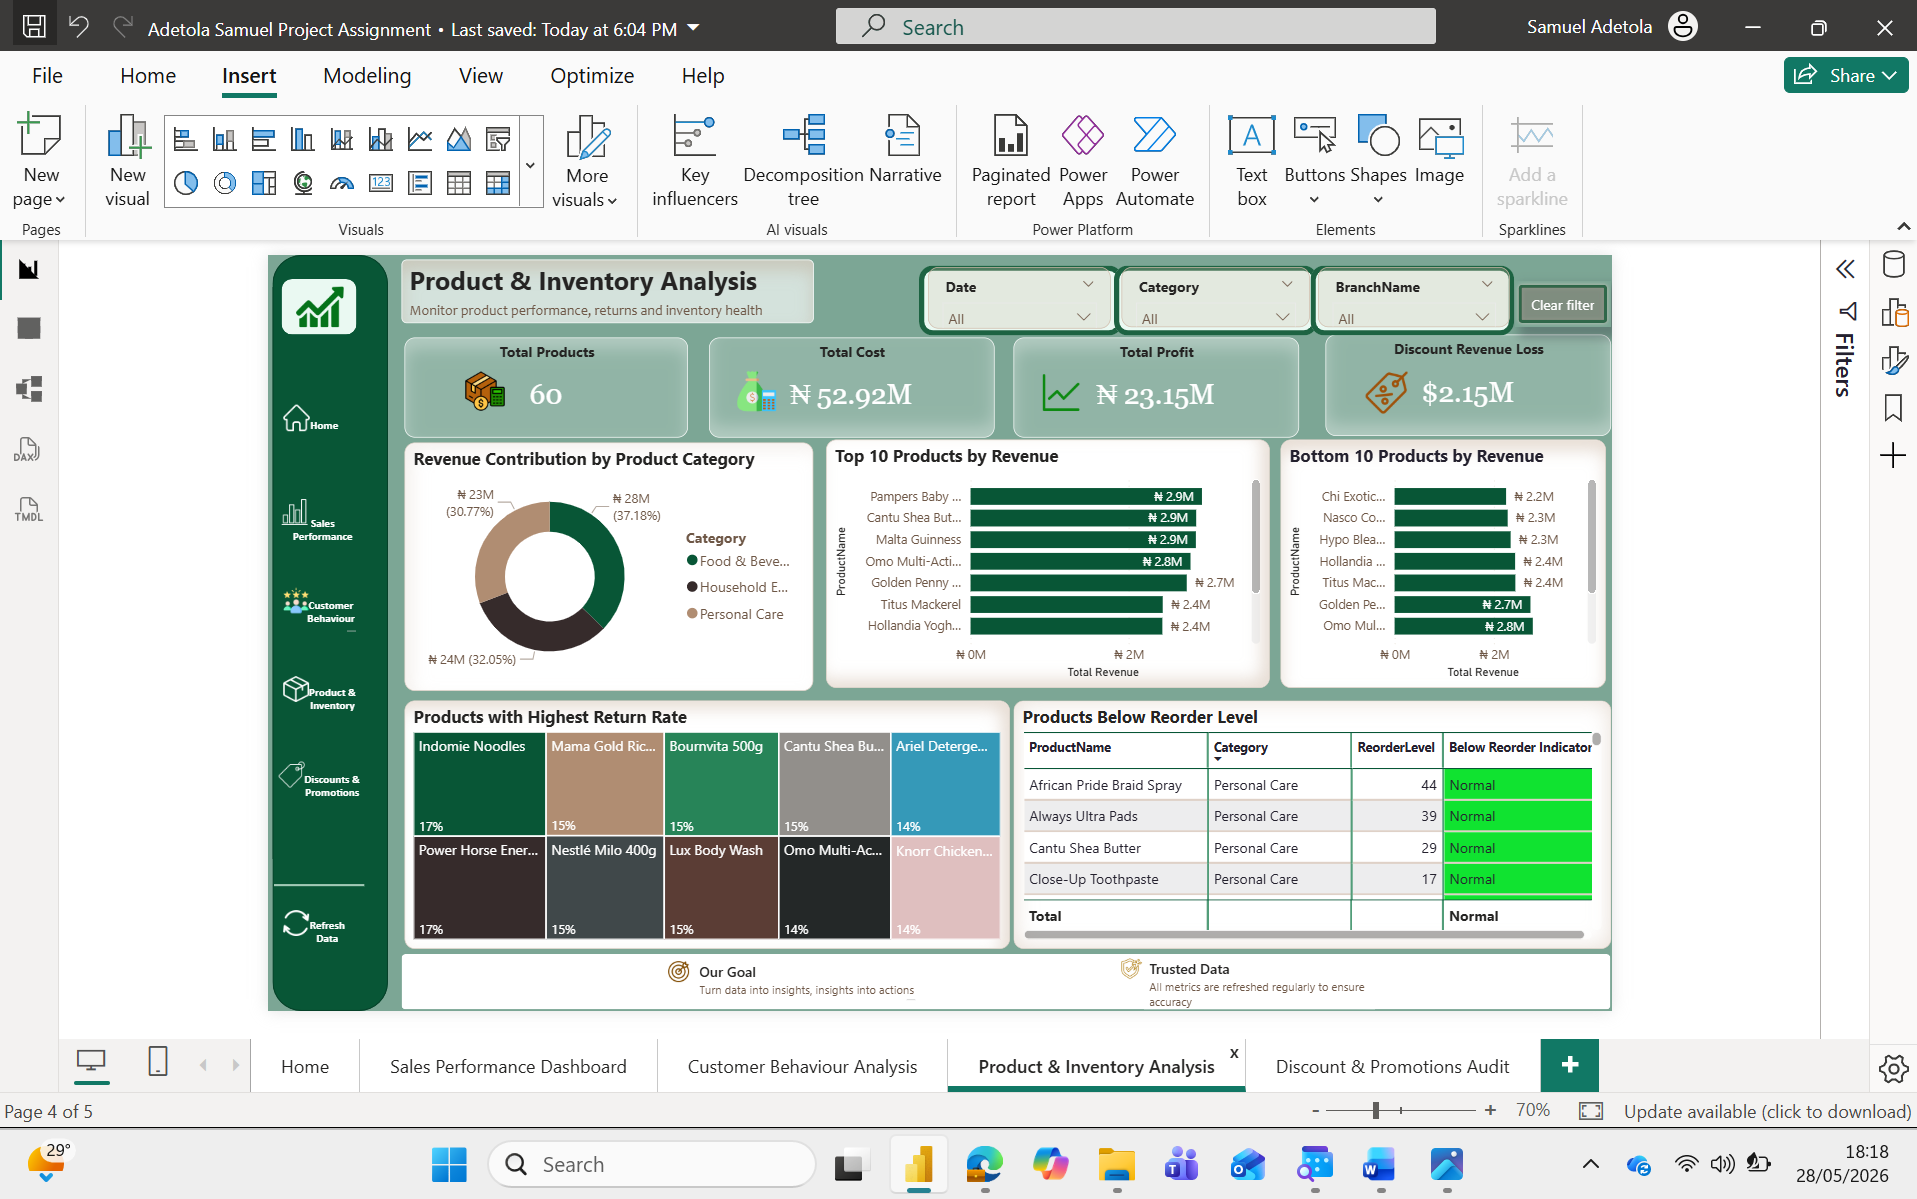

Layout of this report page (visuals, bound fields, positions):
{"tool":"powerbi","page":{"name":"Product & Inventory Analysis","canvas":[1280,720],"ordinal":3},"visuals":[{"type":"shape","box":[619.9,9.5,193.9,66.8],"z":0},{"type":"shape","box":[805.8,9.5,193.9,66.8],"z":1000},{"type":"card","title":"Total Products","fields":{"Values":["Measures (4).Total Products"]},"box":[130.3,77.9,270.2,95.4],"z":2000},{"type":"card","title":"Total Cost","fields":{"Values":["Measures (4).Total Cost"]},"box":[419.6,77.9,271.8,95.4],"z":3000},{"type":"card","title":"Total Profit","fields":{"Values":["Measures (4).Total Profit"]},"box":[710.5,77.9,271.8,95.4],"z":4000},{"type":"card","title":"Discount Revenue Loss","fields":{"Values":["Measures (4).Discount Revenue Loss"]},"box":[1007.7,76.3,271.8,97],"z":5000},{"type":"donutChart","title":"Revenue Contribution by Product Category","fields":{"Category":["products.Category"],"Y":["Measures (4).Total Revenue"]},"box":[130.3,178,389.4,236.8],"z":6000},{"type":"clusteredBarChart","title":"Top 10 Products by Revenue","fields":{"Category":["products.ProductName"],"Y":["Measures (4).Total Revenue"]},"box":[530.9,176.4,422.8,236.8],"z":7000},{"type":"tableEx","title":"Products Below Reorder Level","fields":{"Values":["products.ProductName","products.Category","products.ReorderLevel","Measures (4).Below Reorder Indicator"]},"box":[710.5,424.4,569,236.8],"z":8000},{"type":"treemap","title":"Products with Highest Return Rate","fields":{"Group":["products.ProductName"],"Values":["Measures (4).Return Rate %"]},"box":[130.3,424.4,577,236.8],"z":9000},{"type":"textbox","title":"Product & Inventory Analysis","box":[127.2,4.8,392.6,60.4],"z":10000},{"type":"clusteredBarChart","title":"Bottom 10 Products by Revenue","fields":{"Category":["products.ProductName"],"Y":["Measures (4).Total Revenue"]},"box":[964.8,176.4,309.9,236.8],"z":11000},{"type":"shape","box":[4.3,0,110,720],"z":12000},{"type":"image","box":[6.6,136.4,39.7,35.8],"z":13000},{"type":"image","title":"Sales Performance","box":[5.3,226.5,39.7,35],"z":14000},{"type":"image","box":[6.6,311.3,39,35],"z":15000},{"type":"image","box":[6.6,396.1,39,35],"z":16000},{"type":"image","box":[2.6,476.9,39.7,35],"z":17000},{"type":"image","box":[6.6,618.6,39,35],"z":18000},{"type":"shape","box":[5.3,574.9,86.1,51.7],"z":19000},{"type":"slicer","fields":{"Values":["sales_transactions.Date"]},"box":[628.6,11.4,174.3,58.6],"z":20000},{"type":"slicer","fields":{"Values":["products.Category"]},"box":[812.2,11.1,179.6,57.2],"z":21000},{"type":"shape","box":[993.4,9.5,193.9,66.8],"z":22000},{"type":"slicer","fields":{"Values":["branches.BranchName"]},"box":[999.7,11.1,182.8,57.2],"z":23000},{"type":"actionButton","box":[1187.3,23.8,92.2,44.5],"z":24000},{"type":"textbox","title":"Home","box":[3.2,155.8,101.7,20.7],"z":25000},{"type":"textbox","title":"Sales                                        Performance","box":[15.9,247.9,73.1,25.4],"z":26000},{"type":"textbox","title":"Customer Behaviour","box":[31.8,327.4,57.2,36.6],"z":27000},{"type":"textbox","title":"Product & Inventory","box":[33.4,410.1,57.2,31.8],"z":28000},{"type":"textbox","title":"Discounts & Promotions","box":[28.6,492.7,65.2,33.4],"z":29000},{"type":"textbox","title":"Refresh Data","box":[27,631,58.8,25.4],"z":30000},{"type":"shape","box":[13.2,22.5,71.5,53],"z":31000},{"type":"image","box":[21.2,19.9,55.6,58.3],"z":32000},{"type":"image","box":[1040,105.7,50,50],"z":33000},{"type":"image","box":[180,104.3,52.9,50],"z":34000},{"type":"image","box":[440,104.3,50,50],"z":35000},{"type":"image","box":[730,105.7,50,50],"z":36000},{"type":"shape","box":[127.1,665.7,1151.4,52.9],"z":36001},{"type":"textbox","title":"Our Goal","box":[405.7,672.9,215.7,41.4],"z":36002},{"type":"textbox","title":"Trusted Data","box":[834.3,670,220,48.6],"z":36003},{"type":"image","box":[807.1,664.3,30,30],"z":36004},{"type":"image","box":[375.7,667.1,30,30],"z":36005}]}

Visuals, with their boxes on the page's 1280x720 design canvas (x1, y1, x2, y2). These are canvas units, not pixel positions in the 1917x1199 screenshot, which may show the page scaled, cropped or inside an application window:
shape: <region>620, 10, 814, 76</region>
shape: <region>806, 10, 1000, 76</region>
"Total Products" card: <region>130, 78, 400, 173</region>
"Total Cost" card: <region>420, 78, 691, 173</region>
"Total Profit" card: <region>710, 78, 982, 173</region>
"Discount Revenue Loss" card: <region>1008, 76, 1280, 173</region>
"Revenue Contribution by Product Category" donutChart: <region>130, 178, 520, 415</region>
"Top 10 Products by Revenue" clusteredBarChart: <region>531, 176, 954, 413</region>
"Products Below Reorder Level" tableEx: <region>710, 424, 1280, 661</region>
"Products with Highest Return Rate" treemap: <region>130, 424, 707, 661</region>
"Product & Inventory Analysis" textbox: <region>127, 5, 520, 65</region>
"Bottom 10 Products by Revenue" clusteredBarChart: <region>965, 176, 1275, 413</region>
shape: <region>4, 0, 114, 720</region>
image: <region>7, 136, 46, 172</region>
"Sales Performance" image: <region>5, 226, 45, 262</region>
image: <region>7, 311, 46, 346</region>
image: <region>7, 396, 46, 431</region>
image: <region>3, 477, 42, 512</region>
image: <region>7, 619, 46, 654</region>
shape: <region>5, 575, 91, 627</region>
slicer - sales_transactions.Date: <region>629, 11, 803, 70</region>
slicer - products.Category: <region>812, 11, 992, 68</region>
shape: <region>993, 10, 1187, 76</region>
slicer - branches.BranchName: <region>1000, 11, 1182, 68</region>
actionButton: <region>1187, 24, 1280, 68</region>
"Home" textbox: <region>3, 156, 105, 176</region>
"Sales                                        Performance" textbox: <region>16, 248, 89, 273</region>
"Customer Behaviour" textbox: <region>32, 327, 89, 364</region>
"Product & Inventory" textbox: <region>33, 410, 91, 442</region>
"Discounts & Promotions" textbox: <region>29, 493, 94, 526</region>
"Refresh Data" textbox: <region>27, 631, 86, 656</region>
shape: <region>13, 22, 85, 76</region>
image: <region>21, 20, 77, 78</region>
image: <region>1040, 106, 1090, 156</region>
image: <region>180, 104, 233, 154</region>
image: <region>440, 104, 490, 154</region>
image: <region>730, 106, 780, 156</region>
shape: <region>127, 666, 1278, 719</region>
"Our Goal" textbox: <region>406, 673, 621, 714</region>
"Trusted Data" textbox: <region>834, 670, 1054, 719</region>
image: <region>807, 664, 837, 694</region>
image: <region>376, 667, 406, 697</region>
